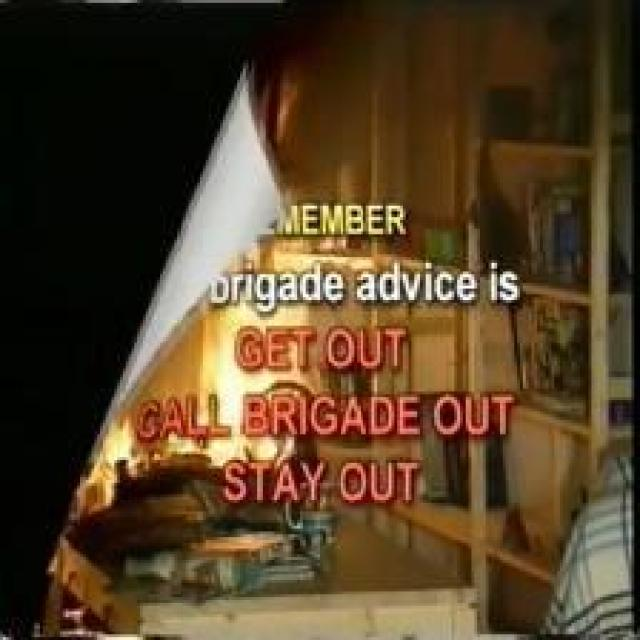fire: (161, 245, 324, 452), (89, 420, 152, 496)
